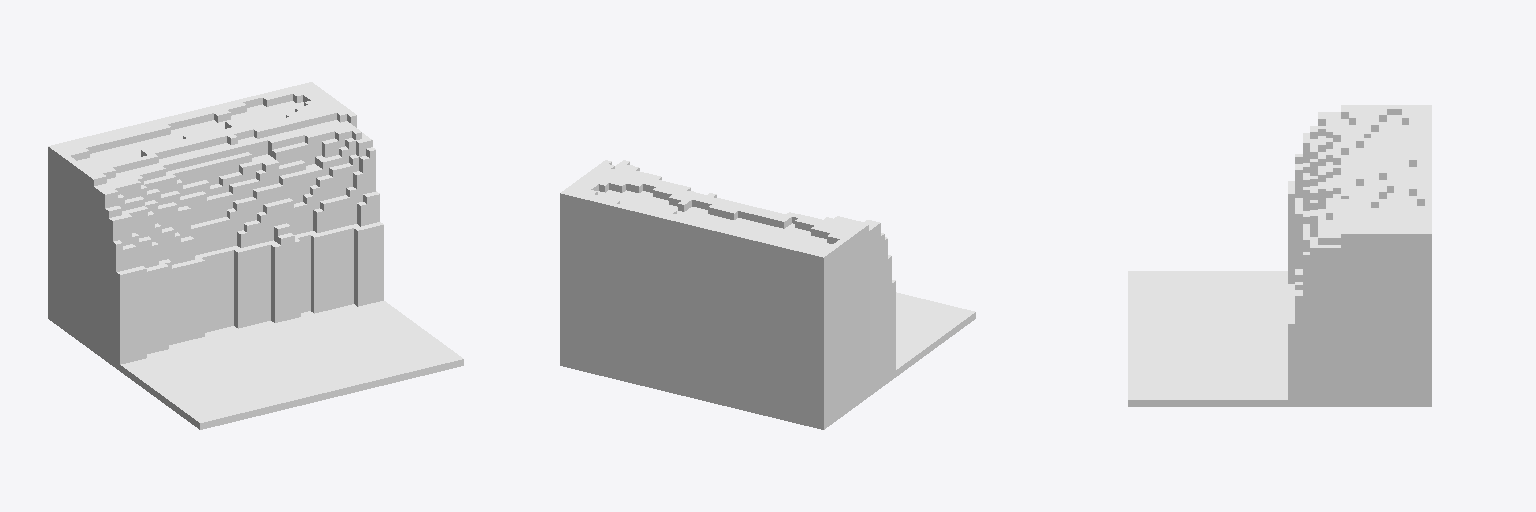
Rendered from tile-halfmountain-2.obj.
3 renders of one model, left to right at view 1: azimuth 30°, elevation 25°; view 2: azimuth 150°, elevation 25°; view 3: azimuth 270°, elevation 25°, orthographic.
Parts seen in each view (by area): view 1: tile-halfmountain-2; view 2: tile-halfmountain-2; view 3: tile-halfmountain-2.
Boxes of the visible parts, x1,y1,x2,y2 form: tile-halfmountain-2: [48, 82, 463, 429]; tile-halfmountain-2: [560, 160, 975, 429]; tile-halfmountain-2: [1128, 105, 1431, 406].
Bounding box in the file's own units: 40 × 25 × 40.